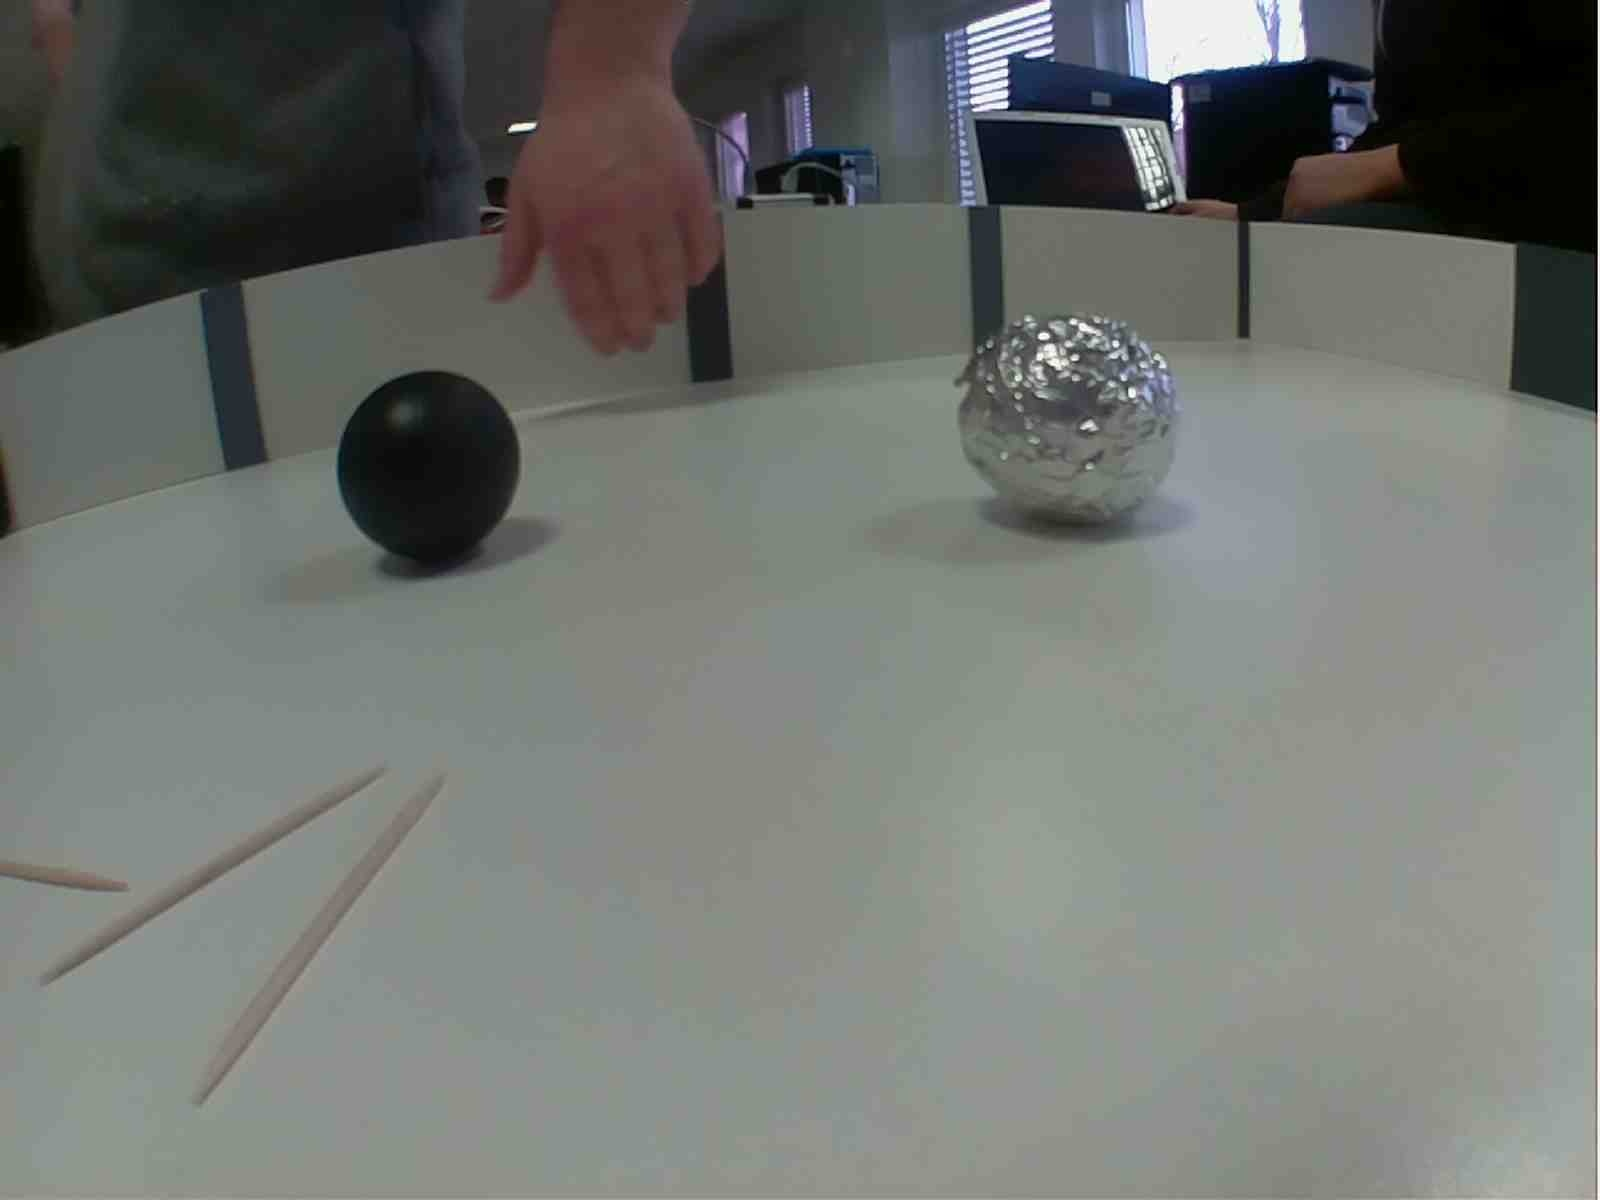bianca: (952, 313, 1180, 532)
nera: (339, 362, 528, 572)
